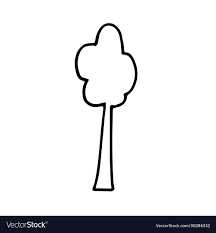tree: (74, 24, 139, 192)
